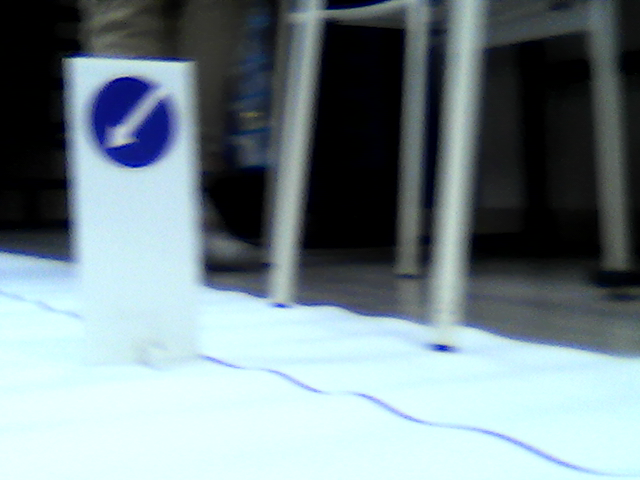prep: (87, 75, 177, 169)
